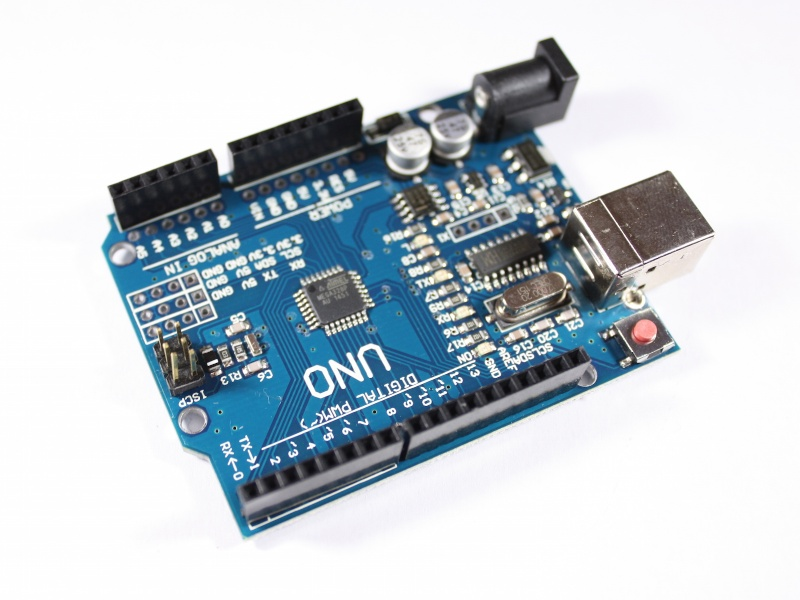uno: (77, 34, 707, 516)
